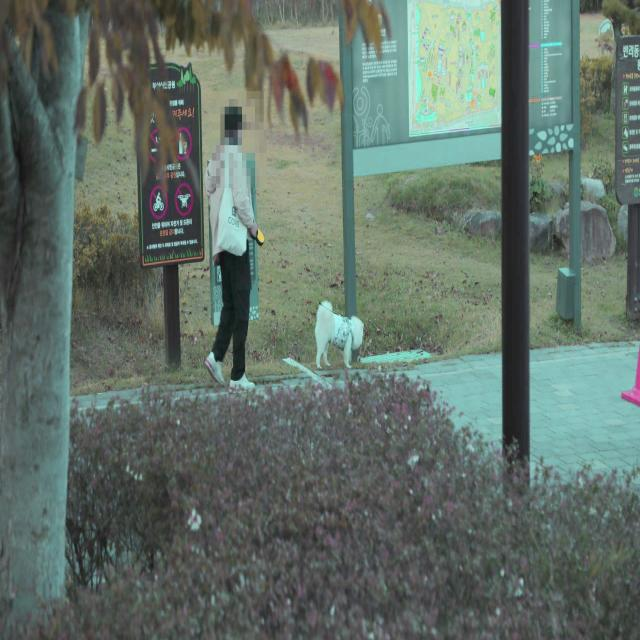Leashed_Dog: (214, 211, 365, 373)
